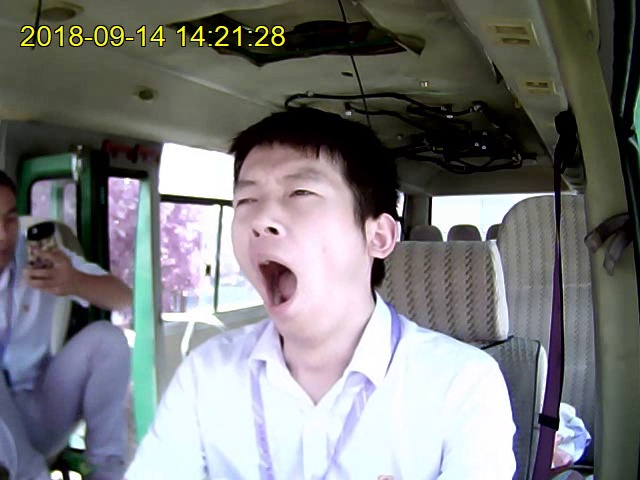open_mouth: (250, 249, 300, 318)
